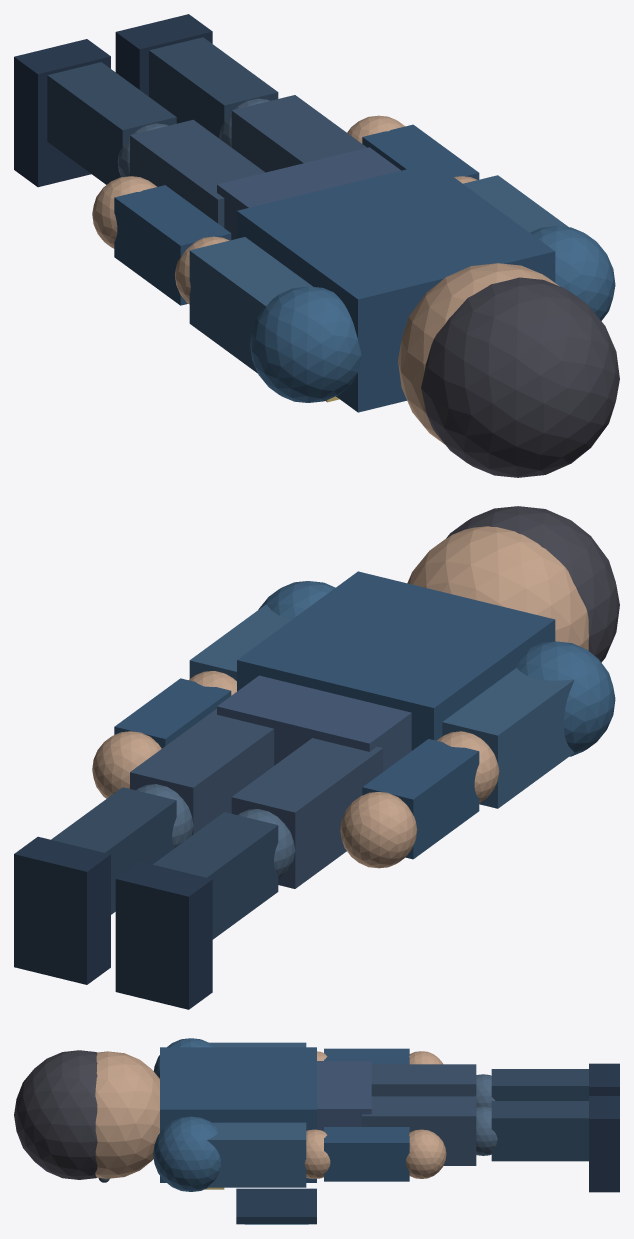
The model's file is vektor.glb.
3 views of the same model, one above another, from view 1: azimuth 30°, elevation 25°; view 2: azimuth 150°, elevation 25°; view 3: azimuth 270°, elevation 25° (orthographic). The views are drawn at different scales.
Visible parts, largest first — view 1: Spine, Hair, Shoulder_L, Shin_L, UpperArm_L, Shin_R, Thigh_L, Forearm_L, Boot_L, Thigh_R, Head, Pelvis (+7 smaller); view 2: Spine, Boot_L, Boot_R, Head, Thigh_L, UpperArm_L, Pelvis, Thigh_R, Shin_L, Forearm_L, Hair, Shin_R (+9 smaller); view 3: Spine, Hair, Head, UpperArm_R, Shin_R, Thigh_R, Forearm_R, Shoulder_R, Pelvis, Thigh_L, Shin_L, Boot_R (+10 smaller).
Boxes of the visible parts, x1,y1,x2,y2 form: Spine: (237,163,555,412); Hair: (421,277,619,477); Shoulder_L: (250,286,361,402); Shin_L: (47,62,176,184); UpperArm_L: (189,237,312,373); Shin_R: (149,37,278,138); Thigh_L: (130,119,265,227); Forearm_L: (114,185,231,305); Boot_L: (14,39,110,187); Thigh_R: (231,95,366,172); Head: (398,263,559,444); Pelvis: (217,147,400,239); Spine: (237,571,555,750); Boot_L: (115,861,212,1009); Boot_R: (14,836,110,984); Head: (407,526,588,650); Thigh_L: (231,738,383,888); UpperArm_L: (442,667,574,808); Pelvis: (217,675,411,771); Thigh_R: (130,709,274,835); Shin_L: (153,812,278,939); Forearm_L: (362,739,479,859); Hair: (446,506,619,662); Shin_R: (51,787,176,914); Spine: (160,1047,316,1182); Hair: (14,1050,97,1179); Head: (95,1051,159,1178); UpperArm_R: (207,1122,306,1187); Shin_R: (491,1101,588,1161); Thigh_R: (362,1096,476,1165); Forearm_R: (324,1127,409,1181); Shoulder_R: (153,1116,220,1191); Pelvis: (317,1061,371,1131); Thigh_L: (371,1064,476,1096); Shin_L: (491,1069,588,1100); Boot_R: (589,1096,619,1192).
Size of the model in its own units: 1.1 by 0.586 by 2.55.
